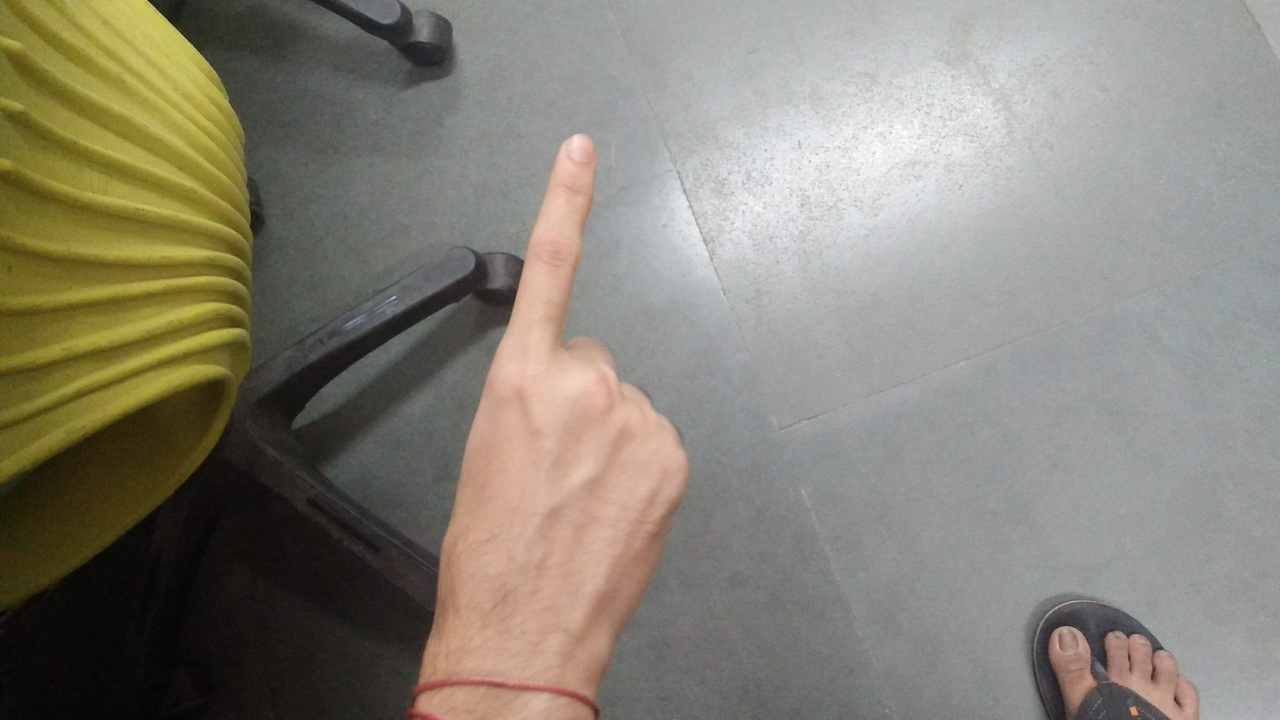fingertip: (544, 126, 604, 174)
